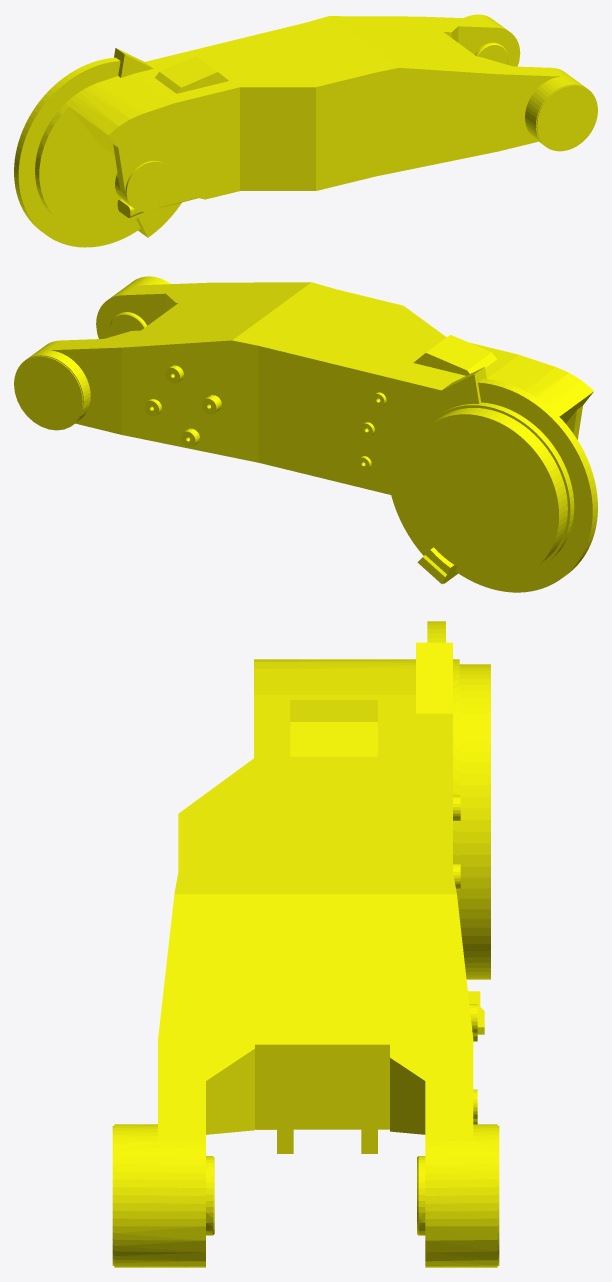
3 renders of one model, top to bottom at view 1: azimuth 30°, elevation 25°; view 2: azimuth 150°, elevation 25°; view 3: azimuth 270°, elevation 25°, orthographic. The views are drawn at different scales.
Parts seen in each view (by area): view 1: node; view 2: node; view 3: node.
Part boxes in pixels (left/top/right/bottom): node: left=14, top=14, right=597, bottom=247; node: left=14, top=276, right=597, bottom=592; node: left=112, top=621, right=499, bottom=1267.
Bounding box in the file's own units: 1373 × 494 × 459.
